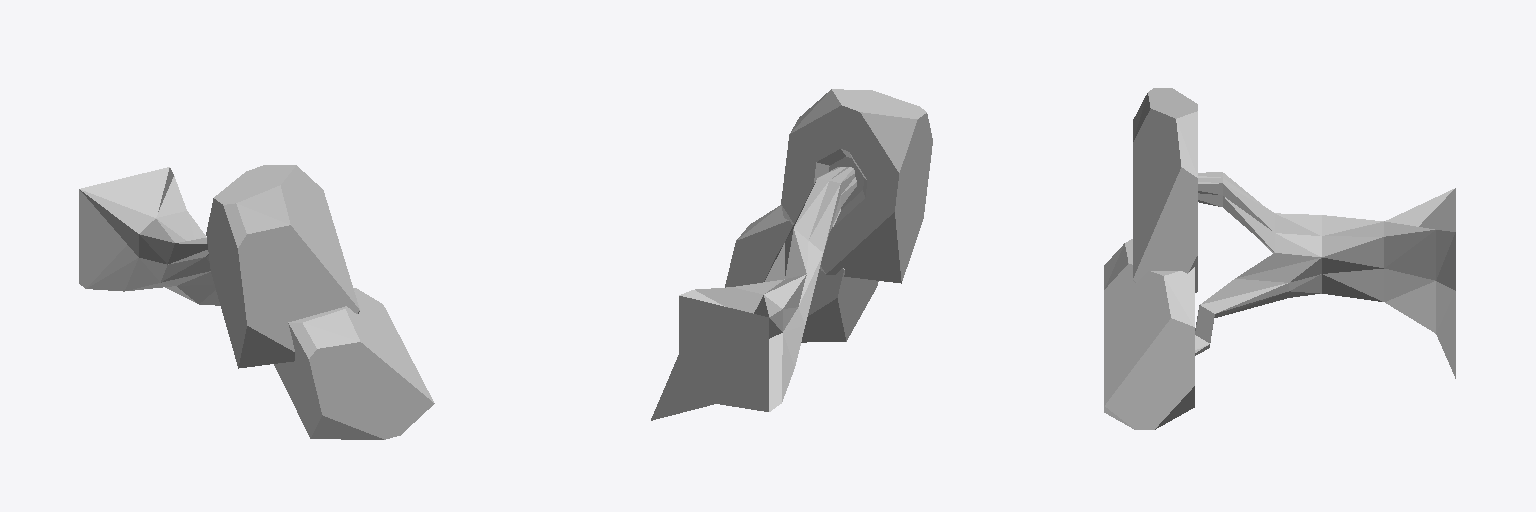
Rendered from three_2.obj.
The picture shows the model from 3 angles: view 1: azimuth 30°, elevation 25°; view 2: azimuth 150°, elevation 25°; view 3: azimuth 270°, elevation 25°; orthographic projection.
Parts seen in each view (by area): view 1: Cube.475_Cube.476, Cube.460; view 2: Cube.475_Cube.476, Cube.460; view 3: Cube.475_Cube.476, Cube.460.
Part boxes in pixels (bbox=[...]): Cube.475_Cube.476: bbox=[206, 165, 434, 439]; Cube.460: bbox=[79, 167, 219, 305]; Cube.475_Cube.476: bbox=[725, 89, 932, 342]; Cube.460: bbox=[651, 167, 856, 420]; Cube.475_Cube.476: bbox=[1104, 88, 1197, 429]; Cube.460: bbox=[1195, 172, 1455, 378].
Bounding box in the file's own units: 5.56 × 7.28 × 8.8.